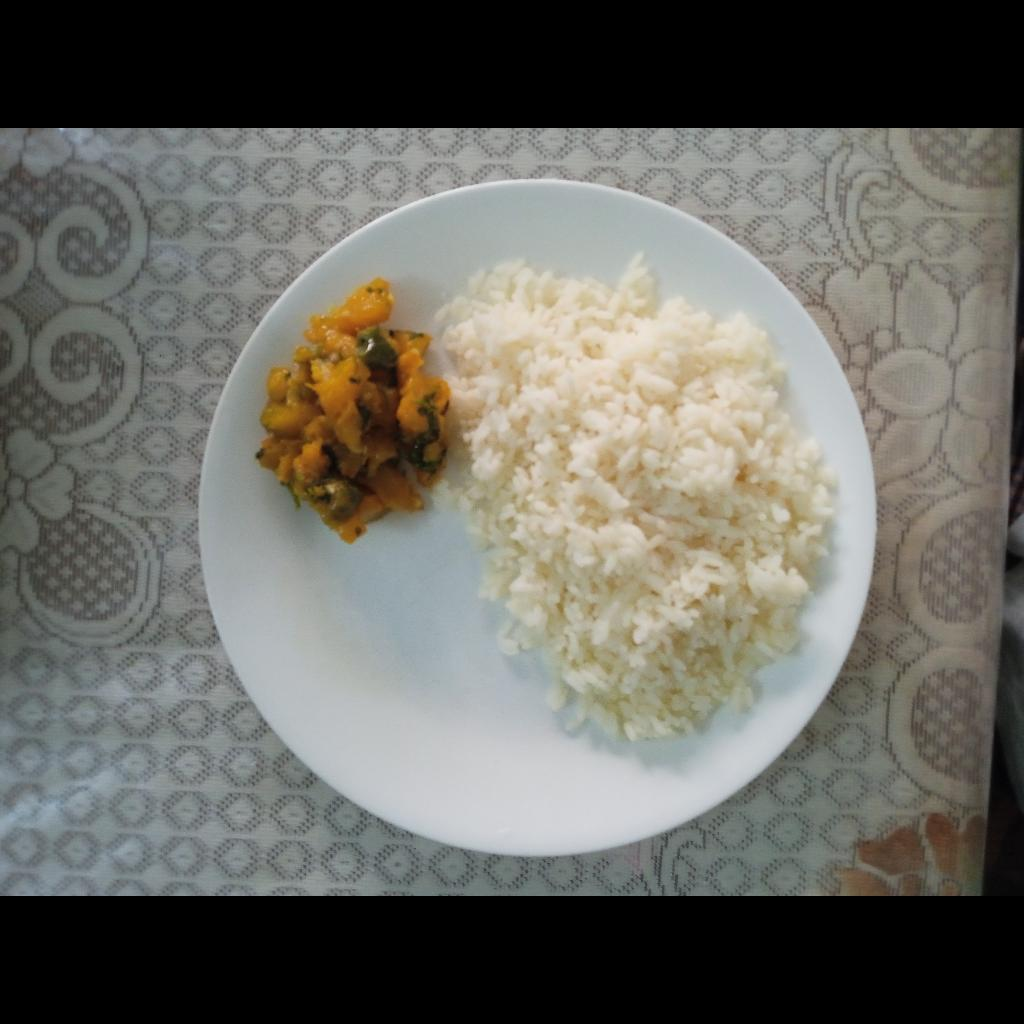kumra-vaji: (256, 278, 449, 546)
rice: (436, 251, 837, 741)
